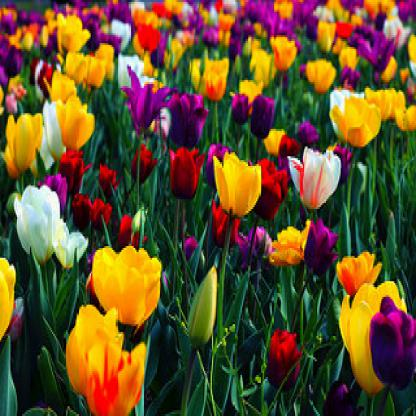TULIP: (13, 21, 409, 404)
